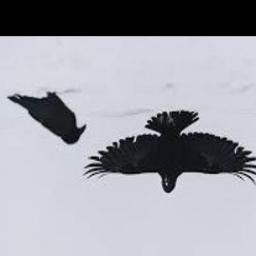Crow: (84, 110, 256, 194), (7, 92, 87, 146)
